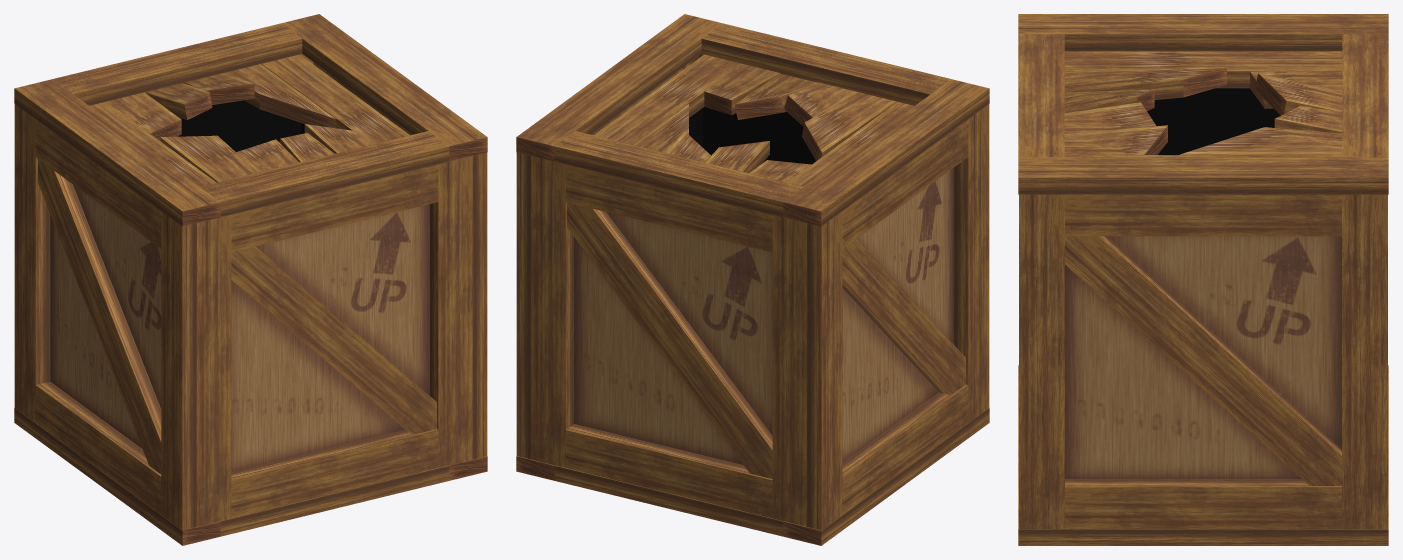
File: env_amazon_spawn_crate_01.fbx
3 views of the same model, side by side, from view 1: azimuth 30°, elevation 25°; view 2: azimuth 150°, elevation 25°; view 3: azimuth 270°, elevation 25° (orthographic). The views are drawn at different scales.
Visible parts, largest first — view 1: crate_broken_top; view 2: crate_broken_top; view 3: crate_broken_top.
Part boxes in pixels (x1=…): crate_broken_top: x1=14, y1=14, x2=487, y2=545; crate_broken_top: x1=516, y1=14, x2=989, y2=545; crate_broken_top: x1=1018, y1=14, x2=1388, y2=545.
Size of the model in its own units: 6.3 by 6.61 by 6.02.
1 material, 1 textured.
